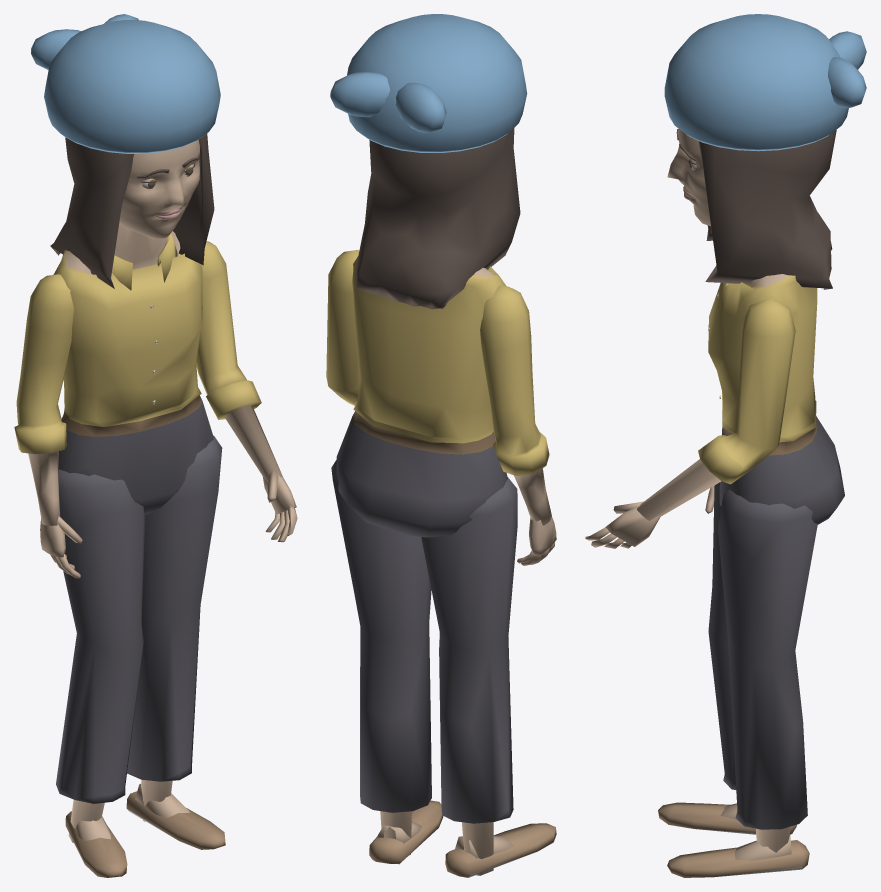
The model's file is people-3.glb.
3 renders of one model, left to right at view 1: azimuth 30°, elevation 25°; view 2: azimuth 150°, elevation 25°; view 3: azimuth 270°, elevation 25°, orthographic. The views are drawn at different scales.
Parts seen in each view (by area): view 1: vendor_body, arm_wave_mesh; view 2: vendor_body, arm_wave_mesh; view 3: vendor_body.
Boxes of the visible parts, left/top/right/bottom form: vendor_body: left=31, top=14, right=297, bottom=877; arm_wave_mesh: left=14, top=274, right=82, bottom=578; vendor_body: left=326, top=14, right=556, bottom=877; arm_wave_mesh: left=480, top=285, right=556, bottom=565; vendor_body: left=585, top=14, right=866, bottom=877.
Size of the model in its own units: 0.4372 by 1.54 by 0.4766.
